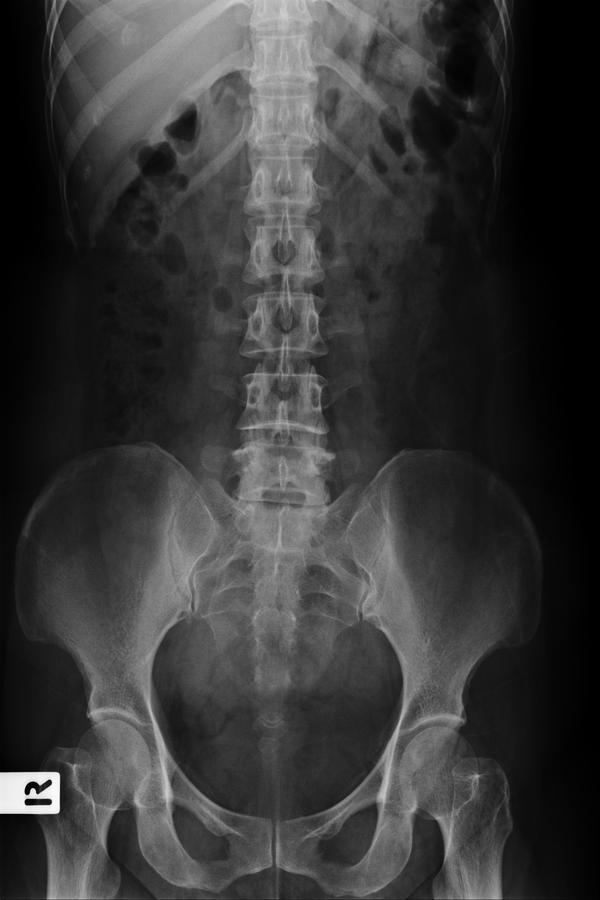lumbar scoliosis: (228, 8, 331, 515)
